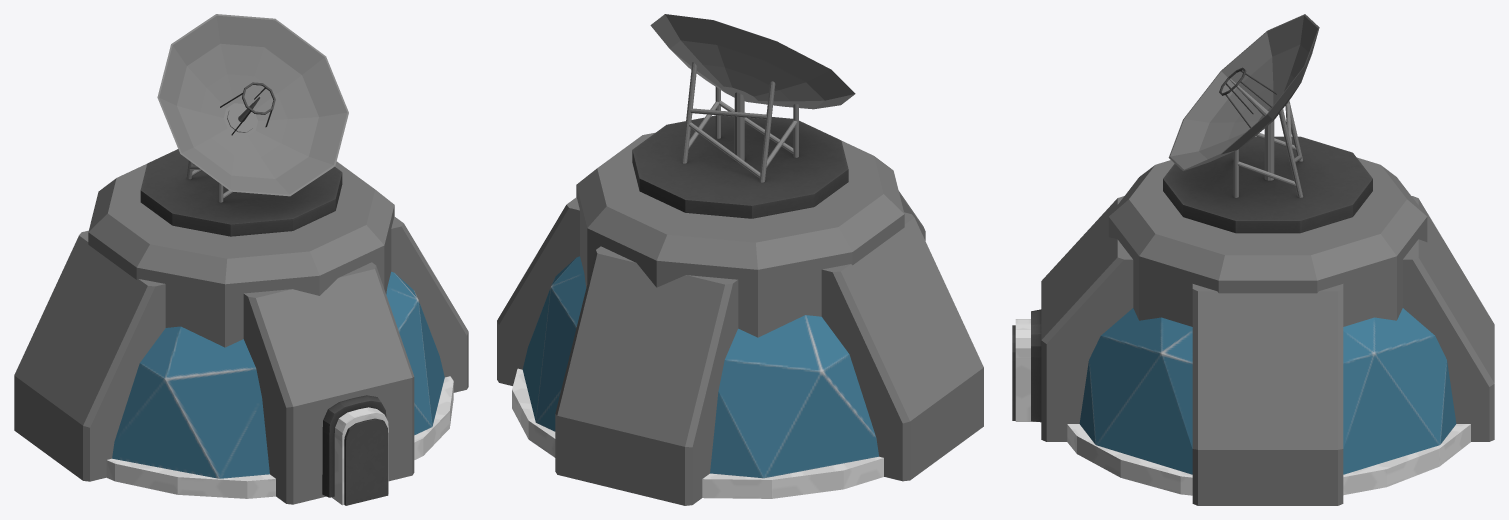
Rendered from antenna.fbx.
The picture shows the model from 3 angles, left to right: view 1: azimuth 30°, elevation 25°; view 2: azimuth 150°, elevation 25°; view 3: azimuth 270°, elevation 25°; orthographic projection. The views are drawn at different scales.
Visible parts, largest first — view 1: Circle.001, Cube.004, Cylinder, Cube.003, Icosphere, Cylinder.002, Circle, Cube.001, Cube.012, Cube.037, Cube; view 2: Cube.002, Cylinder, Icosphere, Cube.003, Cylinder.002, Circle.001, Circle, Cube.001, Cylinder.004, Cylinder.003, Cylinder.005; view 3: Cube.001, Icosphere, Cylinder, Cylinder.002, Cube.004, Cube.002, Circle.001, Circle, Cube, Cube.037, Cylinder.004, Cylinder.003.
Boxes of the visible parts, box(x1,y1,x2,y2) form: Circle.001: box(157, 14, 348, 196); Cube.004: box(243, 262, 414, 504); Cylinder: box(88, 161, 394, 347); Cube.003: box(14, 230, 165, 481); Icosphere: box(112, 271, 444, 478); Cylinder.002: box(140, 149, 342, 236); Circle: box(106, 376, 453, 498); Cube.001: box(391, 216, 468, 392); Cube.012: box(344, 418, 388, 505); Cube.037: box(322, 395, 386, 497); Cube: box(332, 407, 388, 505); Cube.002: box(555, 246, 738, 505); Cylinder: box(576, 132, 904, 337); Icosphere: box(522, 256, 878, 478); Cube.003: box(821, 212, 983, 481); Cylinder.002: box(632, 115, 848, 218); Circle.001: box(650, 14, 855, 109); Circle: box(512, 368, 883, 498); Cube.001: box(497, 197, 579, 385); Cylinder.004: box(681, 62, 775, 182); Cylinder.003: box(734, 92, 744, 161); Cylinder.005: box(715, 87, 798, 157); Cube.001: box(1192, 284, 1343, 505); Icosphere: box(1079, 308, 1456, 474); Cylinder: box(1108, 157, 1427, 326); Cylinder.002: box(1163, 136, 1372, 233); Cube.004: box(1041, 196, 1133, 441); Cube.002: box(1403, 196, 1494, 441); Circle.001: box(1168, 14, 1319, 170); Circle: box(1067, 424, 1470, 495); Cube: box(1015, 319, 1035, 421); Cube.037: box(1031, 309, 1041, 422); Cylinder.004: box(1279, 100, 1303, 197); Cylinder.003: box(1264, 120, 1274, 180).
Bounding box in the file's own units: 219 × 204 × 233.
